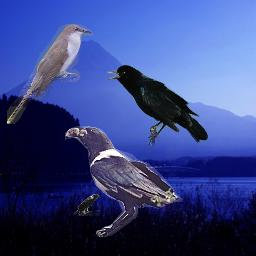Crow: (65, 126, 183, 237), (106, 65, 208, 146), (73, 193, 100, 216)
Cuckoo: (7, 24, 93, 124)
